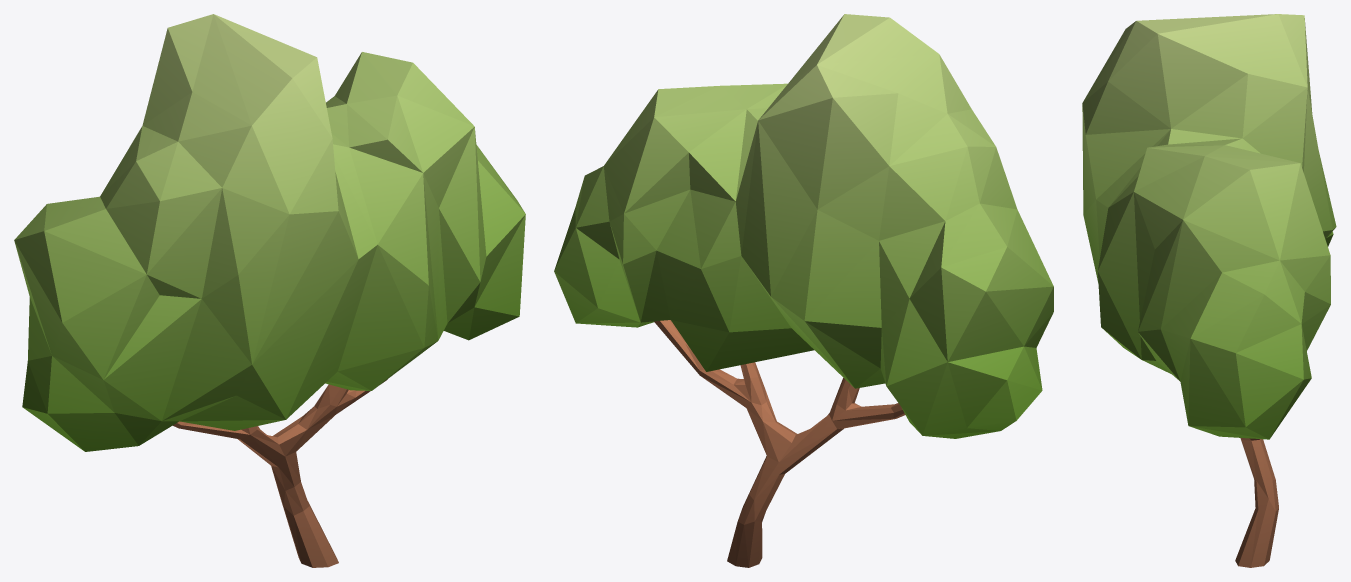
The model's file is tree-4.glb.
3 renders of one model, left to right at view 1: azimuth 30°, elevation 25°; view 2: azimuth 150°, elevation 25°; view 3: azimuth 270°, elevation 25°, orthographic. The views are drawn at different scales.
Parts seen in each view (by area): view 1: tree 4; view 2: tree 4; view 3: tree 4.
Part boxes in pixels (x1,y1,x2,y2): tree 4: (14,14,525,567); tree 4: (554,14,1053,567); tree 4: (1082,14,1336,567).
Bounding box in the file's own units: 6.78 × 7.42 × 3.37.
1 material, 1 textured.
